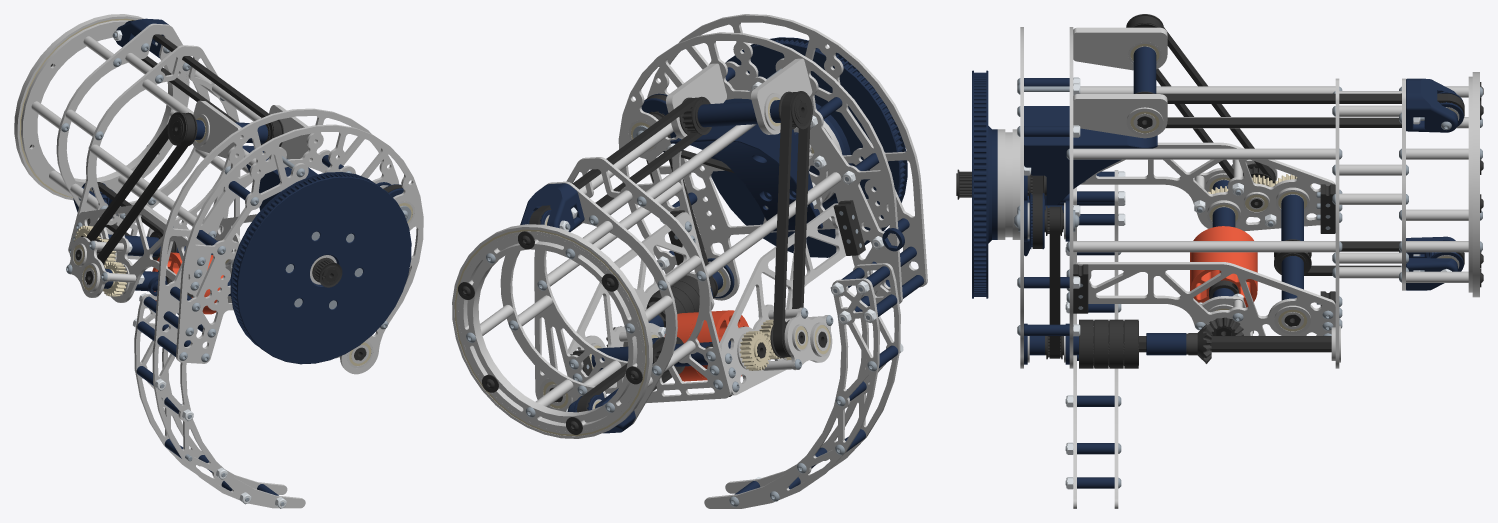
The picture shows the model from 3 angles, left to right: view 1: azimuth 30°, elevation 25°; view 2: azimuth 150°, elevation 25°; view 3: azimuth 270°, elevation 25°; orthographic projection. The views are drawn at different scales.
Parts seen in each view (by area): view 1: W26-HP-3DP001, W26-HP-P013, W26-HP-P016, W26-HP-P029 (×2), W26-HP-P015, W26-HP-P018, W26-HP-P017, 95T 5M 9mm Wide Belt, W26-HP-P019, W26-HP-S003 (×3), W26-HP-P022 (×2), 7" ID X-Contact Bearing (7.5" OD, 0.25" WD, Shielded) (+9 smaller); view 2: W26-HP-P013, W26-HP-P016, W26-HP-P029 (×2), W26-HP-P018, W26-HP-3DP001, W26-HP-P014, 7" ID X-Contact Bearing (7.5" OD, 0.25" WD, Shielded), 95T 5M 9mm Wide Belt, W26-HP-S003 (×4), W26-HP-3DP003, W26-HP-P017, W26-HP-P019 (+14 smaller); view 3: W26-HP-S003 (×3), W26-HP-P020, W26-HP-S004 (×9), W26-HP-P022 (×2), W26-HP-P019, 120T 5M 9mm Wide Belt, W26-HP-3DP003, W26-HP-3DP001, W26-HP-3DP005 (×2), 1.625" Flex Wheel (30A, 1/2" Wide, 1/2" Hex Stretch Bore) (×4), 2.25" Compliant Wheel (40A, 1" Wide, 1/2" Hex Bore) (×2), W26-HP-H004 (+19 smaller).
Boxes of the visible parts, box(x1,y1,x2,y2) form: W26-HP-3DP001: box(230, 172, 411, 364); W26-HP-P013: box(176, 124, 423, 374); W26-HP-P016: box(154, 108, 399, 358); W26-HP-P029 (×2): box(134, 294, 305, 508); W26-HP-P015: box(21, 20, 187, 196); W26-HP-P018: box(68, 45, 240, 259); W26-HP-P017: box(56, 23, 210, 234); 95T 5M 9mm Wide Belt: box(86, 113, 195, 263); W26-HP-P019: box(69, 205, 188, 302); W26-HP-S003 (×3): box(90, 79, 261, 226); W26-HP-P022 (×2): box(192, 100, 316, 160); 7" ID X-Contact Bearing (7.5" OD, 0.25" WD, Shielded): box(14, 14, 189, 200); W26-HP-P013: box(647, 14, 927, 300); W26-HP-P016: box(618, 32, 902, 310); W26-HP-P029 (×2): box(704, 263, 900, 508); W26-HP-P018: box(534, 157, 731, 411); W26-HP-3DP001: box(711, 37, 907, 257); W26-HP-P014: box(458, 234, 642, 431); 7" ID X-Contact Bearing (7.5" OD, 0.25" WD, Shielded): box(452, 224, 652, 438); 95T 5M 9mm Wide Belt: box(773, 92, 810, 357); W26-HP-S003 (×4): box(547, 123, 841, 286); W26-HP-3DP003: box(670, 90, 823, 231); W26-HP-P017: box(500, 181, 677, 424); W26-HP-P019: box(719, 203, 846, 395); W26-HP-S003 (×3): box(1073, 86, 1335, 252); W26-HP-P020: box(1075, 262, 1335, 335); W26-HP-S004 (×9): box(1339, 105, 1468, 282); W26-HP-P022 (×2): box(1073, 27, 1167, 138); W26-HP-P019: box(1080, 142, 1335, 231); 120T 5M 9mm Wide Belt: box(1141, 93, 1464, 127); W26-HP-3DP003: box(1024, 106, 1157, 256); W26-HP-3DP001: box(972, 70, 997, 298); W26-HP-3DP005 (×2): box(1406, 78, 1457, 290); 1.625" Flex Wheel (30A, 1/2" Wide, 1/2" Hex Stretch Bore) (×4): box(1079, 319, 1138, 368); 2.25" Compliant Wheel (40A, 1" Wide, 1/2" Hex Bore) (×2): box(1190, 226, 1257, 307); W26-HP-H004: box(1139, 336, 1331, 352).
Size of the model in its own units: 0.2759 by 0.4242 by 0.4459.
